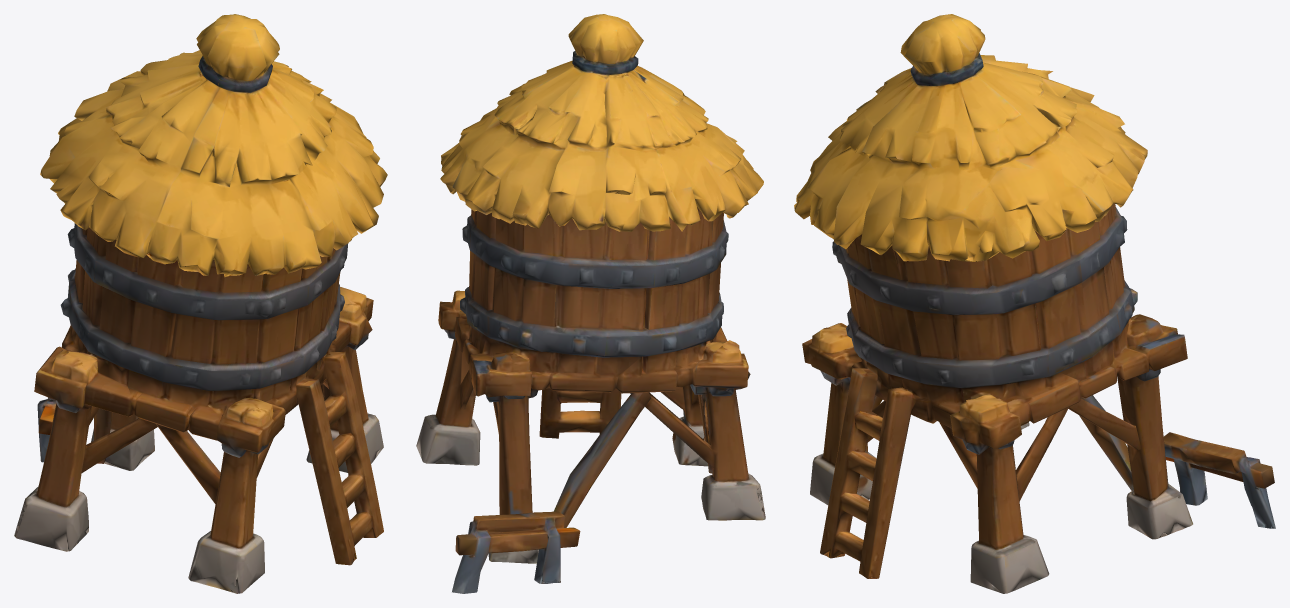
Rendered from bld_granary.glb.
3 renders of one model, left to right at view 1: azimuth 30°, elevation 25°; view 2: azimuth 150°, elevation 25°; view 3: azimuth 270°, elevation 25°, orthographic. The views are drawn at different scales.
Visible parts, largest first — view 1: BakeLow; view 2: BakeLow; view 3: BakeLow.
Part boxes in pixels (box(x1,y1,x2,y2)): BakeLow: box(14, 14, 387, 593); BakeLow: box(416, 14, 765, 593); BakeLow: box(794, 14, 1275, 593).
Bounding box in the file's own units: 0.6382 × 0.8394 × 0.7129.
Materials: 1 (1 with a texture image).
